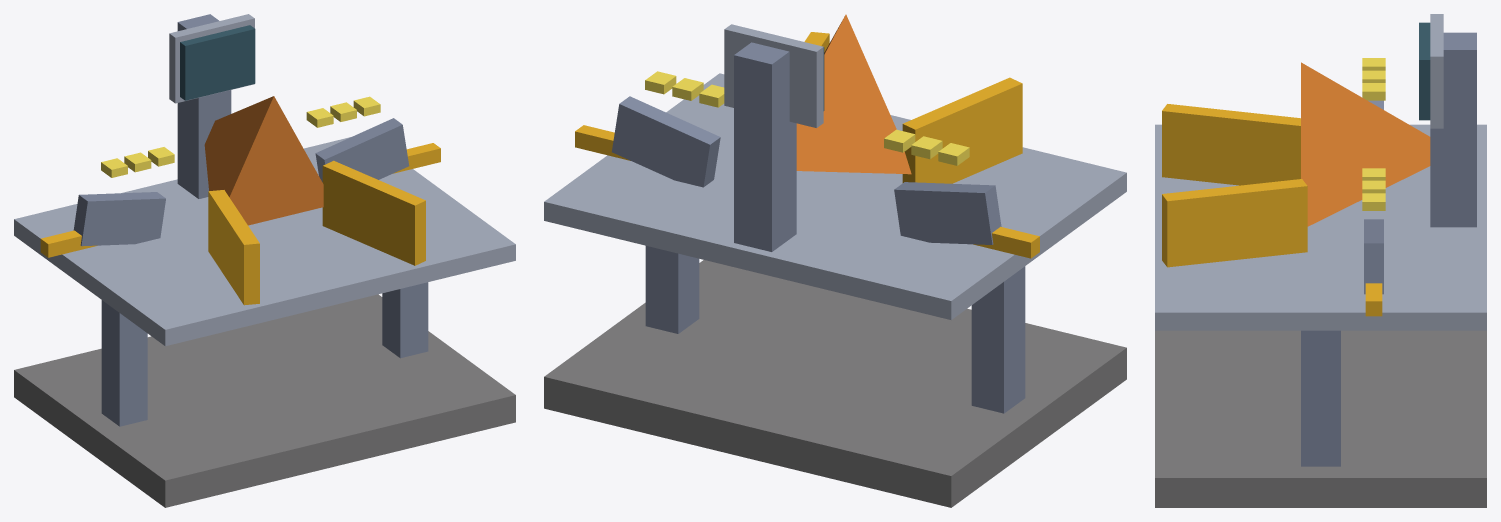
Rendered from sorter.glb.
3 views of the same model, side by side, from view 1: azimuth 30°, elevation 25°; view 2: azimuth 150°, elevation 25°; view 3: azimuth 270°, elevation 25° (orthographic). The views are drawn at different scales.
Parts seen in each view (by area): view 1: sorter; view 2: sorter; view 3: sorter.
Boxes of the visible parts, <box> form: sorter: <box>14,14,515,507</box>; sorter: <box>544,14,1126,507</box>; sorter: <box>1155,14,1486,507</box>.
Size of the model in its own units: 1.5 by 1.26 by 1.
